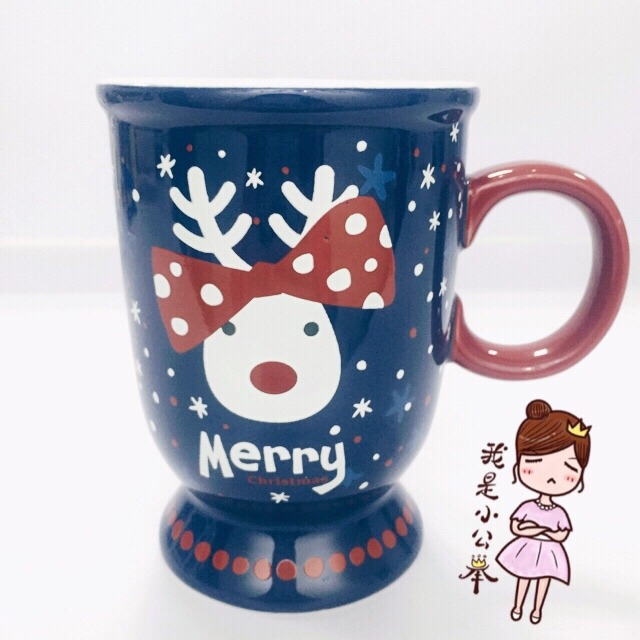cup: (90, 78, 630, 615)
